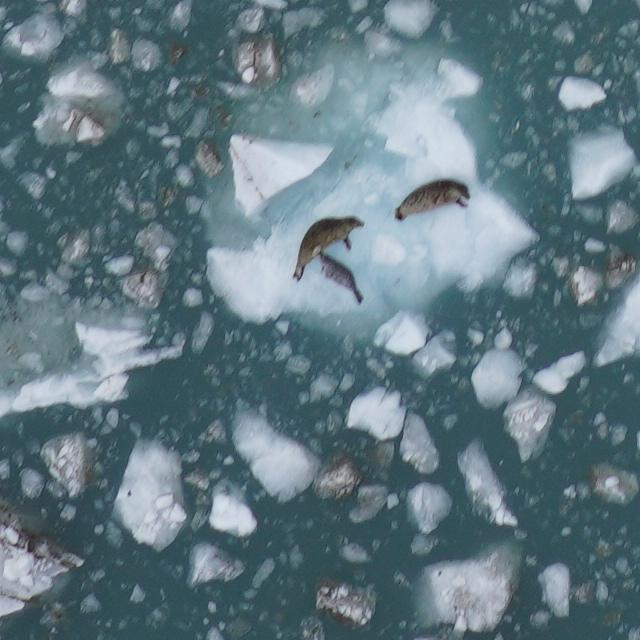seal: (289, 212, 368, 284), (391, 176, 474, 226), (313, 247, 369, 307)
